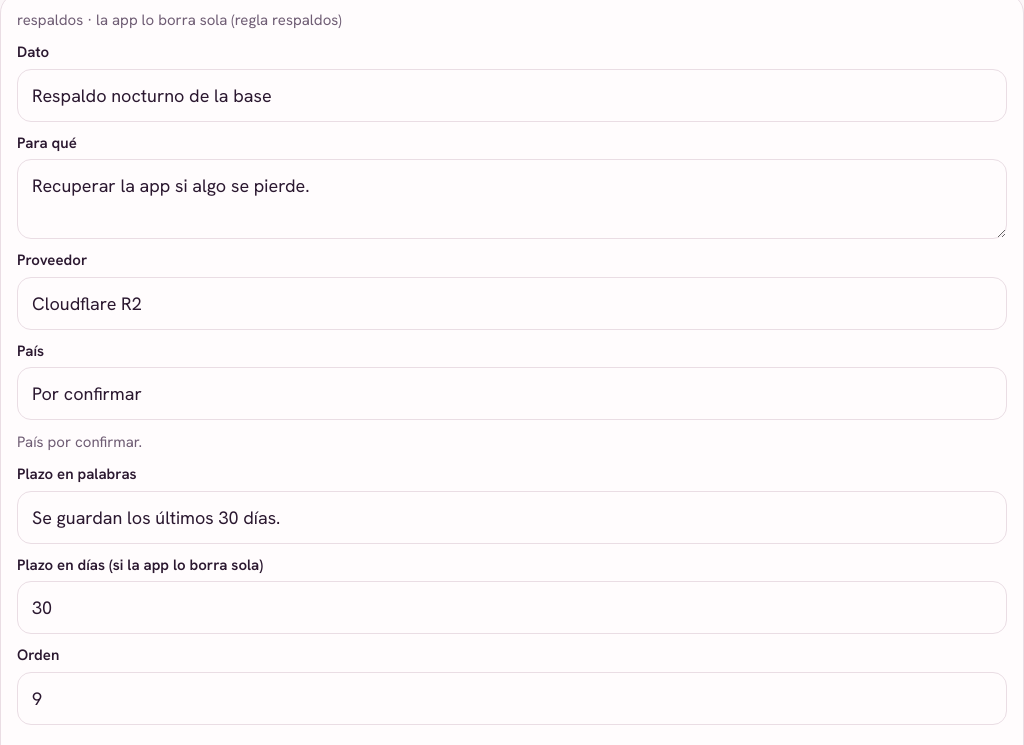
Test: EditorDeFila › saves the corrected row, with no days as null, and refreshes
Replace the text in the field labelled "País" with "Estados Unidos" at (512, 394), box [17,367,1007,420]
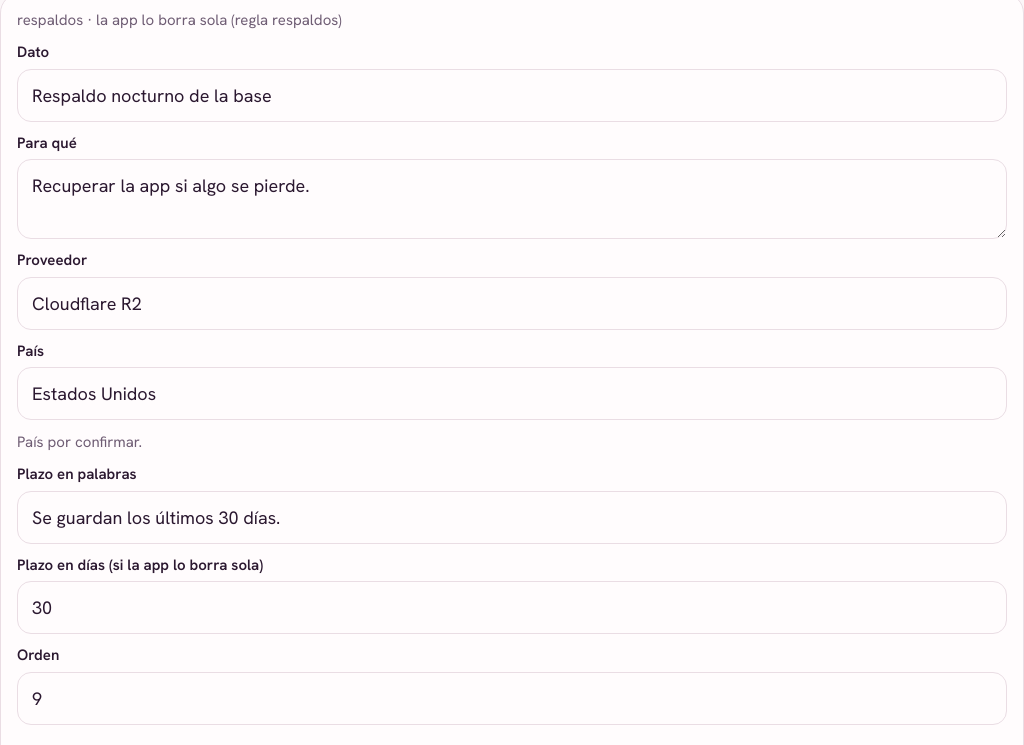
Clear the number field labelled "Plazo en días (si la app lo borra sola)" at (512, 608), box [17,581,1007,634]
(page scrolled)
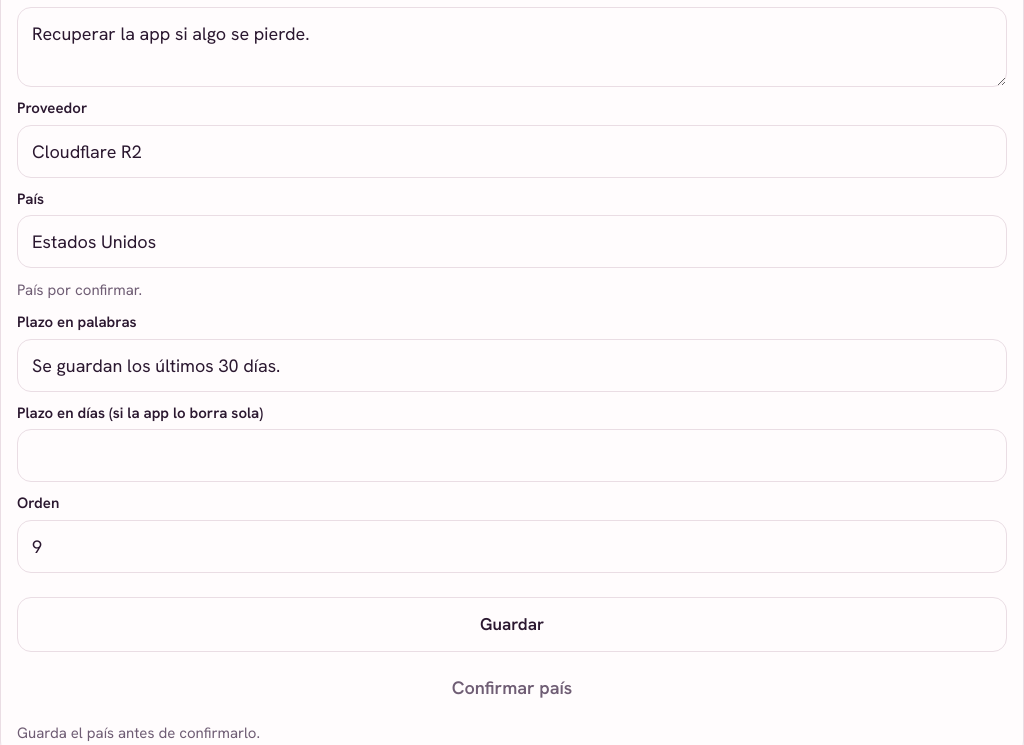
Click the button "Guardar" at (512, 624), box [17,596,1007,652]
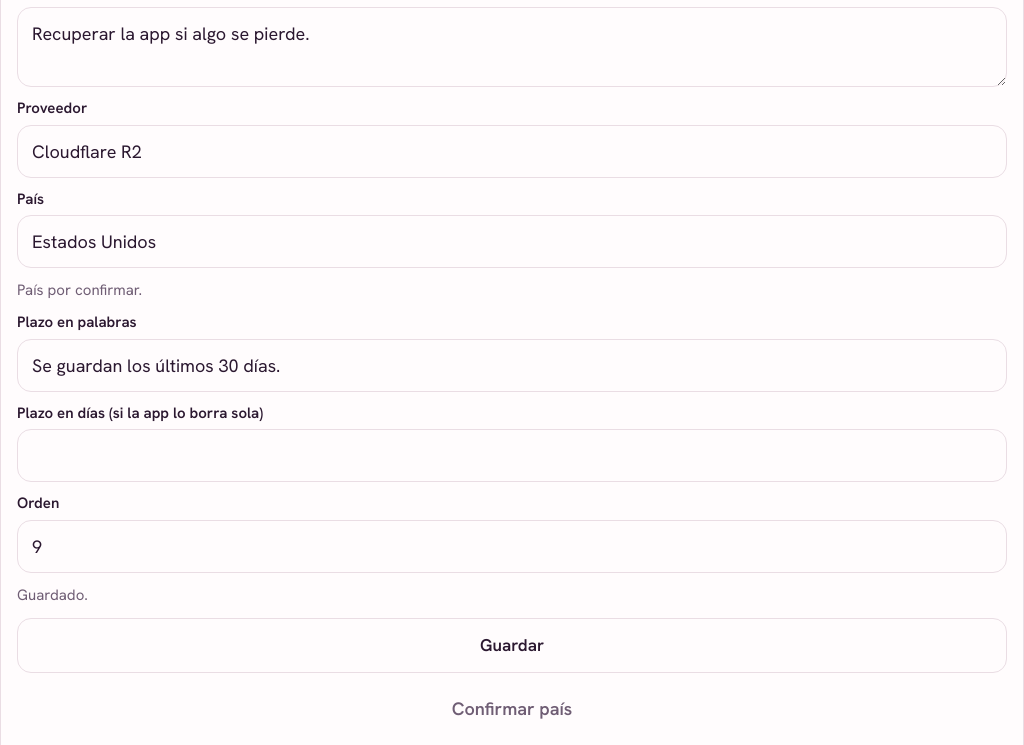
Check: the text "Guardado." is shown, box [17,584,88,604]
